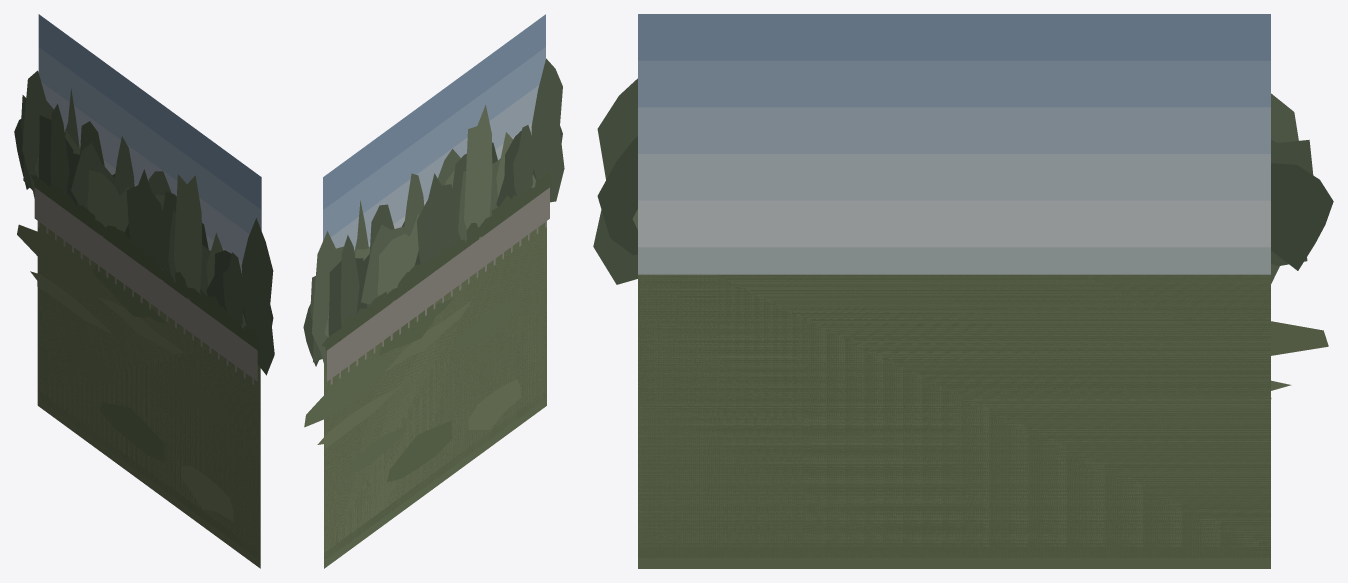
File: view_e3.glb
The picture shows the model from 3 angles, left to right: view 1: azimuth 30°, elevation 25°; view 2: azimuth 150°, elevation 25°; view 3: azimuth 270°, elevation 25°; orthographic projection. The views are drawn at different scales.
Visible parts, largest first — view 1: root; view 2: root; view 3: root.
Part boxes in pixels (x1,y1,x2,y2): root: (14, 14, 274, 568); root: (303, 14, 564, 568); root: (593, 14, 1333, 568).
Size of the model in its own units: 0.0213 by 1.86 by 2.25.
